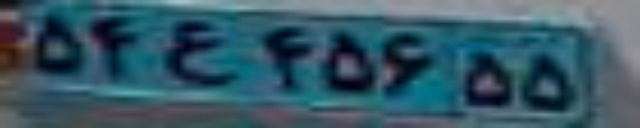4: (262, 27, 312, 89), (87, 18, 137, 78)
5: (321, 32, 376, 91), (461, 49, 516, 106), (31, 16, 83, 76), (519, 55, 575, 110)
6: (383, 34, 433, 94)
ain: (163, 20, 235, 86)
